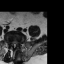CCS_stenosis: (13, 41, 15, 48)
LFS_severe_stenosis: (17, 41, 19, 46)
LLS_severe_stenosis: (15, 41, 17, 46)
RFS_severe_stenosis: (10, 41, 12, 46)
RLS_severe_stenosis: (12, 41, 14, 46)
